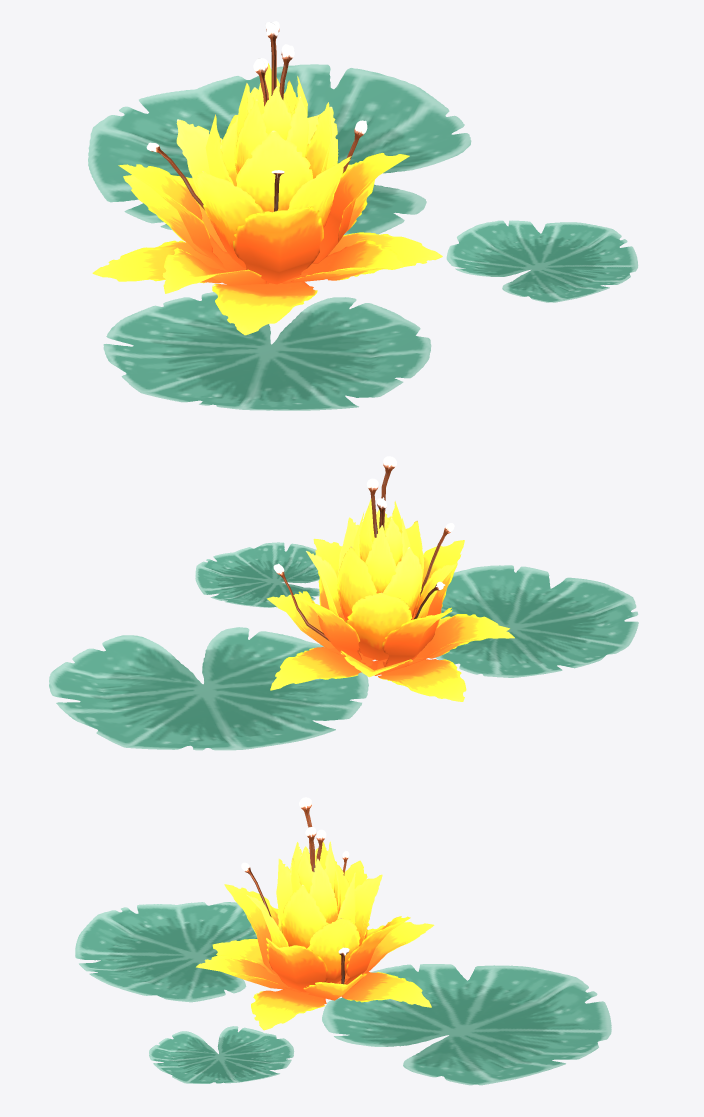
File: SM_ENV_flower_ancient_07_01.fbx
The picture shows the model from 3 angles, top to bottom: view 1: azimuth 30°, elevation 25°; view 2: azimuth 150°, elevation 25°; view 3: azimuth 270°, elevation 25°; orthographic projection. The views are drawn at different scales.
Parts seen in each view (by area): view 1: SM_ENV_flower_ancient_07_01_LOD0; view 2: SM_ENV_flower_ancient_07_01_LOD0; view 3: SM_ENV_flower_ancient_07_01_LOD0.
Boxes of the visible parts, bbox=[...] form: SM_ENV_flower_ancient_07_01_LOD0: bbox=[88, 21, 638, 410]; SM_ENV_flower_ancient_07_01_LOD0: bbox=[49, 456, 638, 750]; SM_ENV_flower_ancient_07_01_LOD0: bbox=[75, 797, 611, 1085].
Size of the model in its own units: 93.04 by 35.02 by 112.
